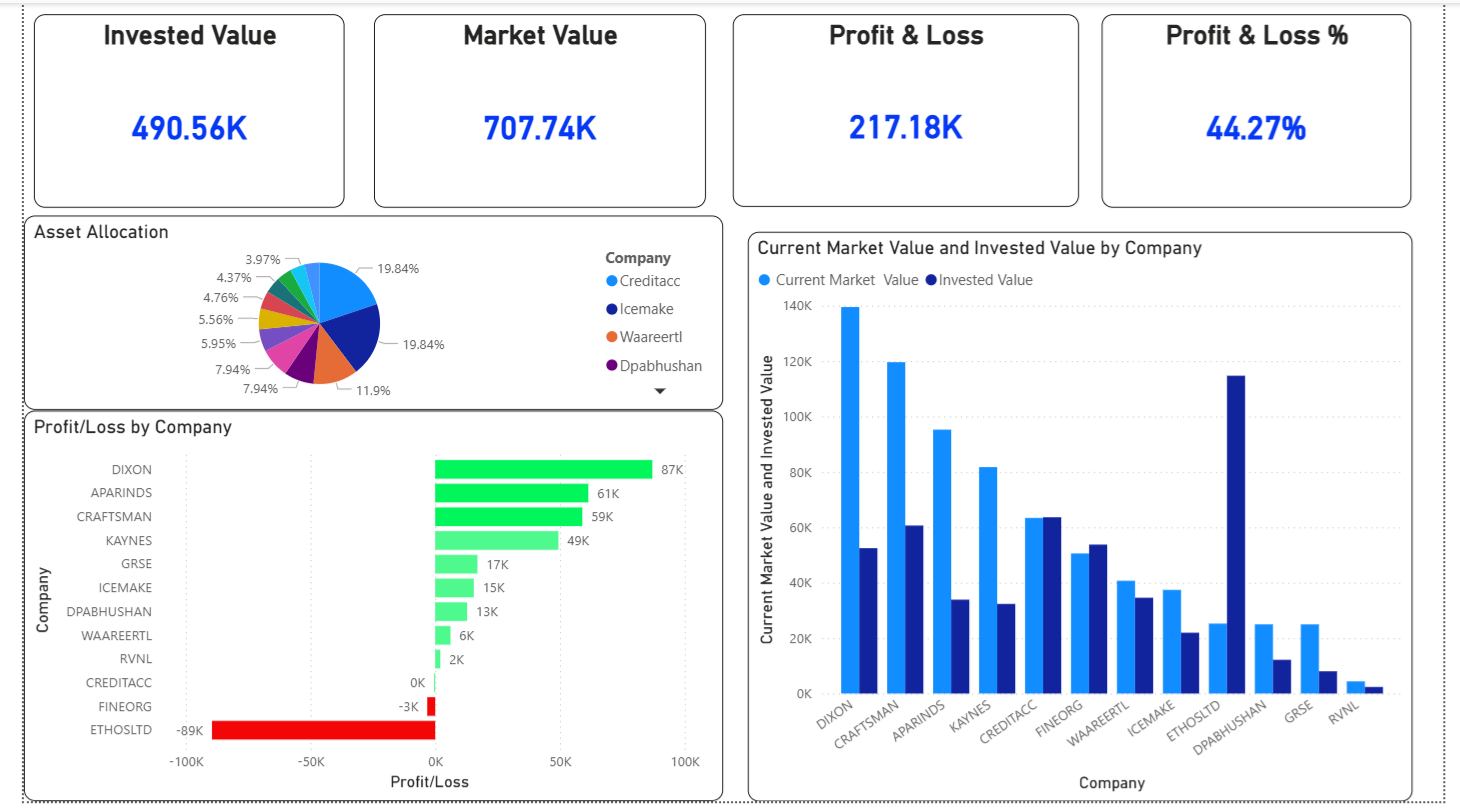

Layout of this report page (visuals, bound fields, positions):
{"tool":"powerbi","page":{"name":"Page 1","canvas":[1280,720],"ordinal":0},"visuals":[{"type":"clusteredBarChart","fields":{"Category":["Sheet1.Company"],"Y":["Sum(Sheet1.Profit/Loss)"]},"box":[0,367.4,630.2,352.3],"z":0},{"type":"card","title":"Invested Value","fields":{"Values":["Sum(Sheet1.Inveted Value)"]},"box":[9.3,10.5,280.2,174.4],"z":1000},{"type":"card","title":"Market Value","fields":{"Values":["Sum(Sheet1.Current Market  Value)"]},"box":[315.1,10.5,298.8,174.4],"z":2000},{"type":"card","title":"Profit & Loss","fields":{"Values":["Sum(Sheet1.Profit/Loss)"]},"box":[639.5,10.5,311.6,173.3],"z":3000},{"type":"card","title":"Profit & Loss %","fields":{"Values":["Sheet1.Measure"]},"box":[972.1,10.5,279.1,174.4],"z":4000},{"type":"clusteredColumnChart","fields":{"Category":["Sheet1.Company"],"Y":["Sum(Sheet1.Current Market  Value)","Sum(Sheet1.Invested Value)"]},"box":[652.3,205.8,598.8,514],"z":5000},{"type":"pieChart","title":"Asset Allocation","fields":{"Category":["Table (2).Company"],"Series":["Table (2).Sector"],"Y":["Sum(Sheet1.Quantity )"]},"box":[0,191.9,630.2,175.6],"z":6000}]}

Visuals, with their boxes in screenshot pixels (x1, y1, x2, y2), scaled from the page's 1280x720 canvas onto the 1460x809 screenshot:
clusteredBarChart - Sheet1.Company x Sum(Sheet1.Profit/Loss): x1=0 y1=413 x2=719 y2=808
"Invested Value" card: x1=11 y1=12 x2=330 y2=208
"Market Value" card: x1=359 y1=12 x2=700 y2=208
"Profit & Loss" card: x1=729 y1=12 x2=1085 y2=207
"Profit & Loss %" card: x1=1109 y1=12 x2=1427 y2=208
clusteredColumnChart - Sheet1.Company x Sum(Sheet1.Current Market  Value): x1=744 y1=231 x2=1427 y2=808
"Asset Allocation" pieChart: x1=0 y1=216 x2=719 y2=413
